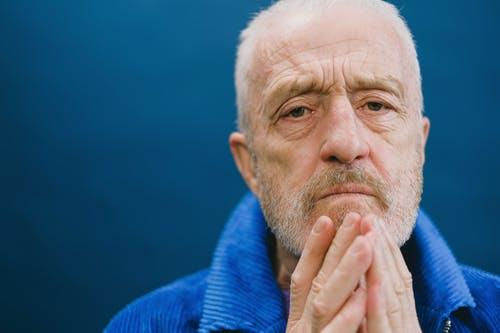Wrinkles: (272, 38, 363, 64), (269, 73, 306, 90), (271, 61, 310, 77), (326, 57, 336, 95), (343, 54, 353, 90), (320, 61, 325, 93)
